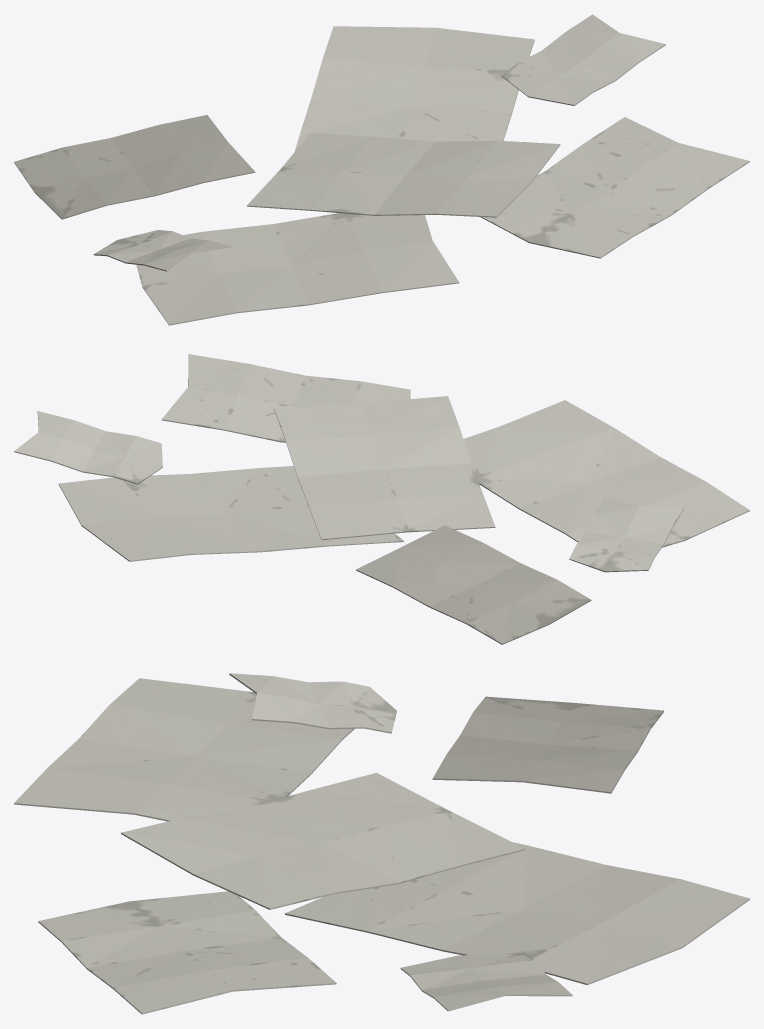
The model's file is street_litter_paper.glb.
3 renders of one model, top to bottom at view 1: azimuth 30°, elevation 25°; view 2: azimuth 150°, elevation 25°; view 3: azimuth 270°, elevation 25°, orthographic. The views are drawn at different scales.
Parts seen in each view (by area): view 1: StreetLitterPaper; view 2: StreetLitterPaper; view 3: StreetLitterPaper.
Boxes of the visible parts, bbox=[...] form: StreetLitterPaper: bbox=[14, 14, 749, 325]; StreetLitterPaper: bbox=[14, 354, 749, 644]; StreetLitterPaper: bbox=[14, 673, 749, 1014].
Size of the model in its own units: 0.7012 by 0.0479 by 0.5678.
1 material, 1 textured.
